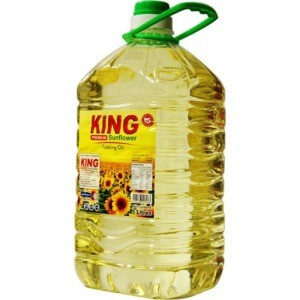vegetable oil_brain food: (75, 80, 224, 290)
